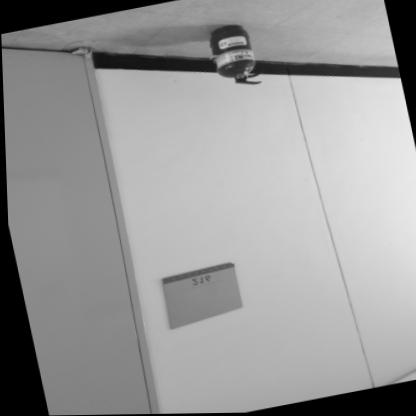FE: (206, 21, 259, 92)
